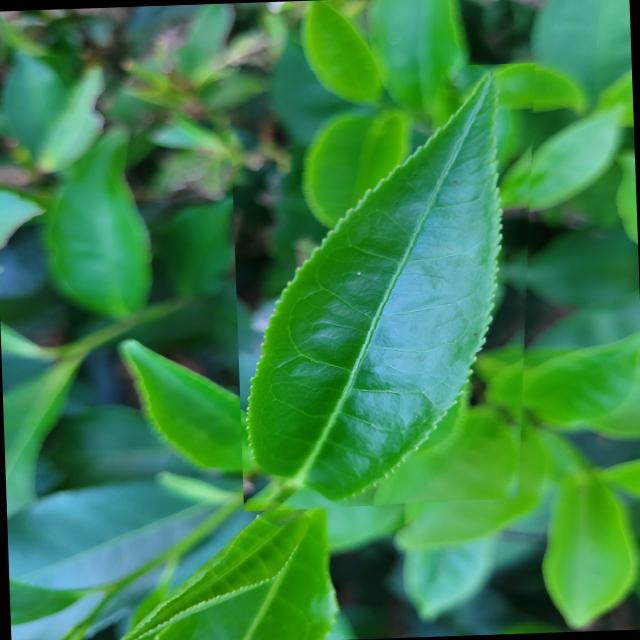Catagory A(1-2 days): (228, 62, 550, 512)
